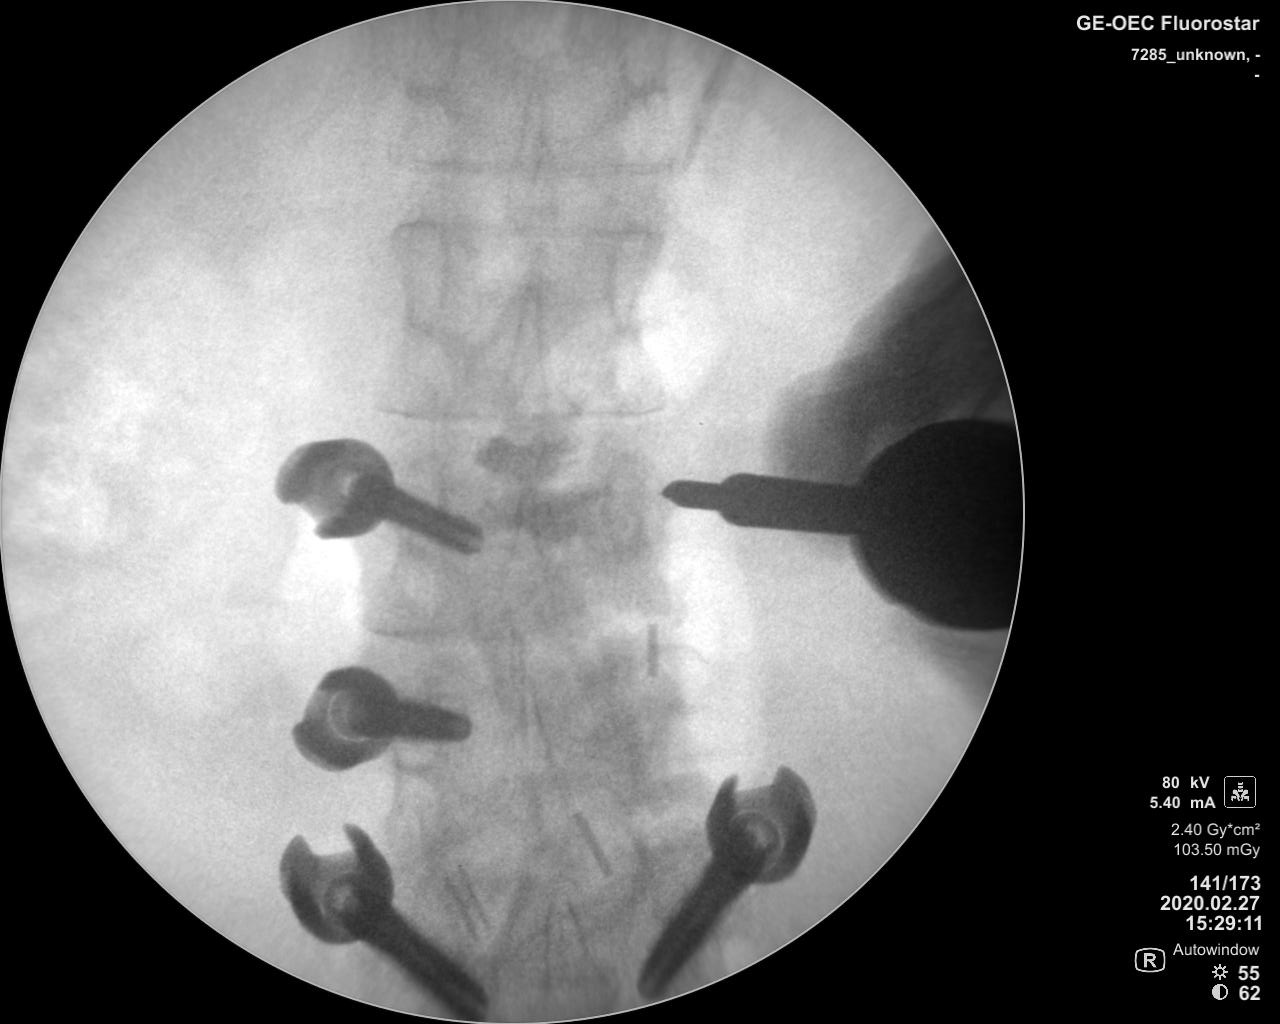eyes: (397, 222, 451, 334), (405, 7, 461, 100), (601, 449, 648, 552), (606, 236, 650, 333), (616, 16, 664, 95)
line: (373, 395, 677, 430), (388, 146, 686, 177)
nose: (501, 478, 553, 637), (499, 279, 552, 438), (508, 76, 556, 227)
